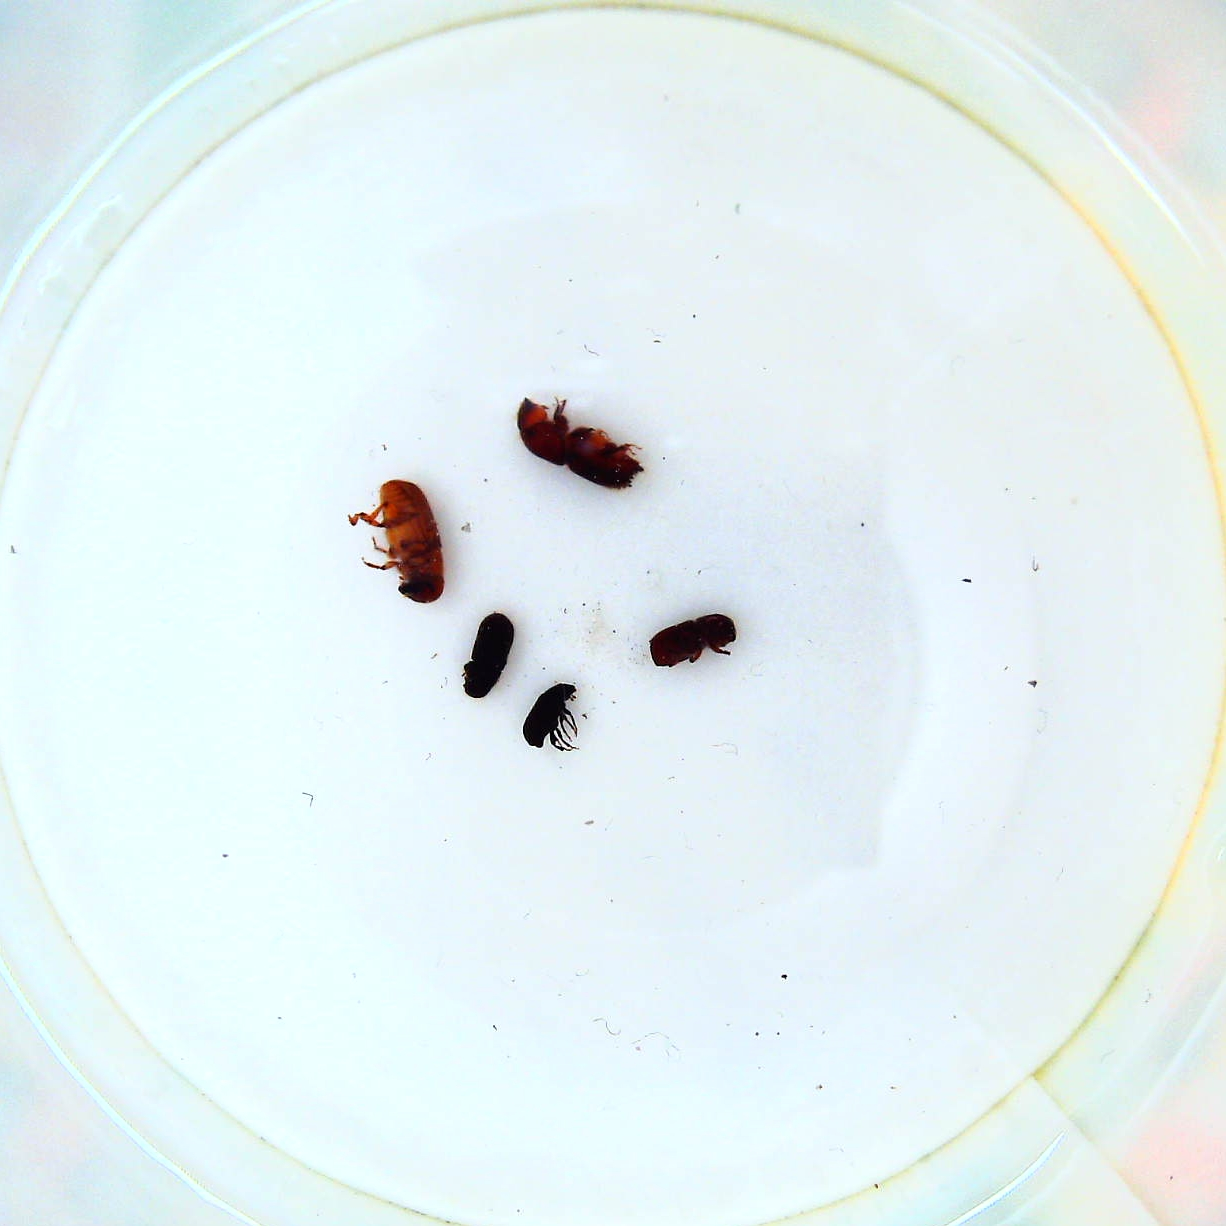Boerner: (510, 388, 649, 500)
Leconte: (337, 475, 452, 609)
armandi: (454, 607, 522, 702)
coleoptera: (518, 675, 588, 763)
linnaeus: (647, 612, 742, 675)
